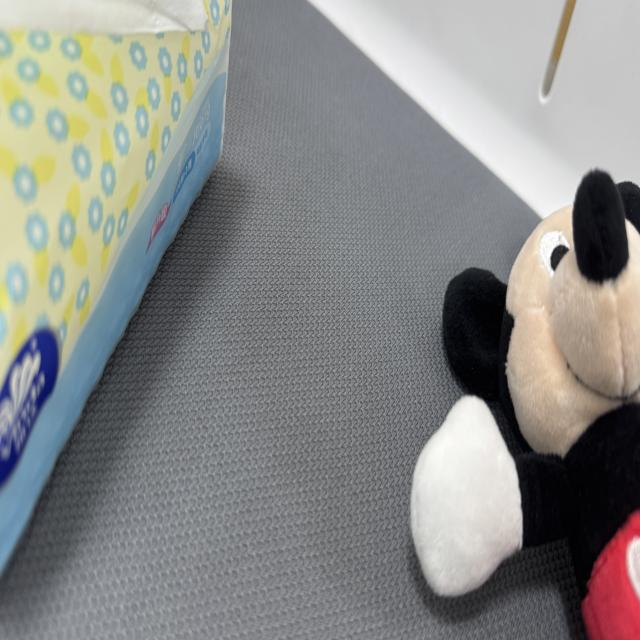mickey: (411, 171, 639, 639)
